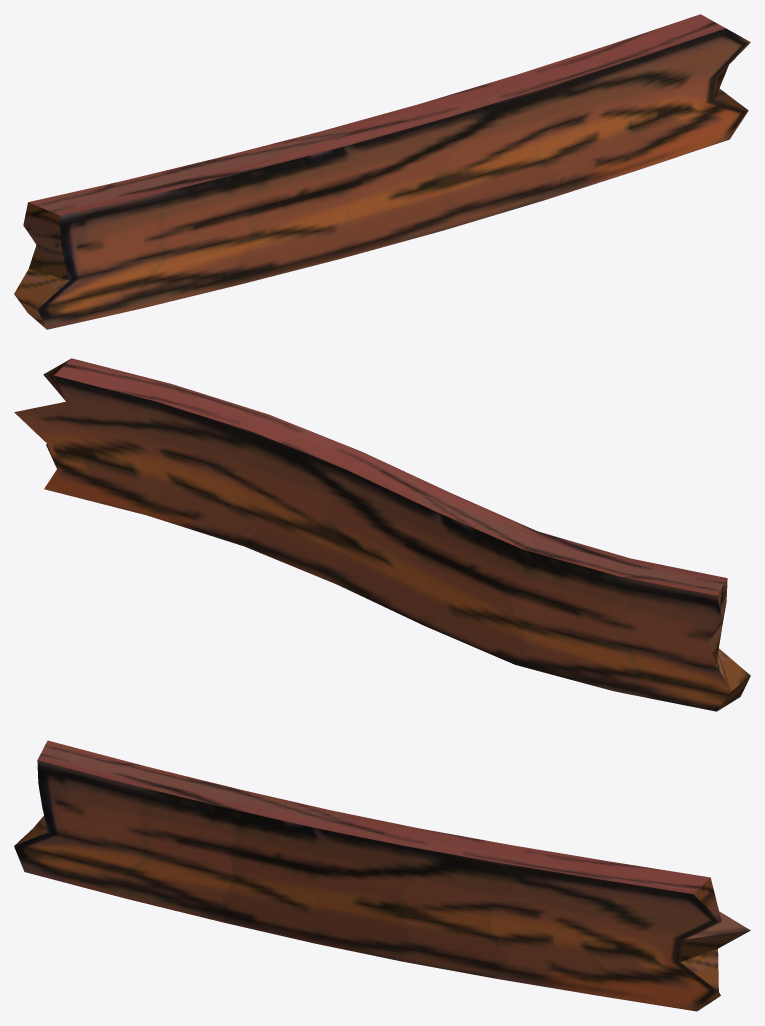
File: Plank4.fbx
3 views of the same model, one above another, from view 1: azimuth 30°, elevation 25°; view 2: azimuth 150°, elevation 25°; view 3: azimuth 330°, elevation 25° (orthographic). The views are drawn at different scales.
Parts seen in each view (by area): view 1: Plank4; view 2: Plank4; view 3: Plank4.
Boxes of the visible parts, box(x1,y1,x2,y2) form: Plank4: box(14, 14, 750, 329); Plank4: box(14, 358, 750, 711); Plank4: box(14, 740, 750, 1011).
Size of the model in its own units: 66.89 by 14.08 by 7.2.
